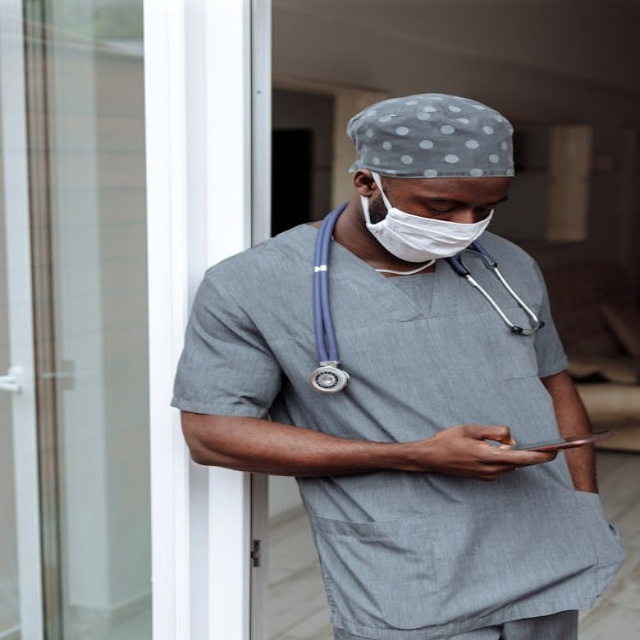Mascara: (360, 195, 502, 264)
Sin_gafas: (401, 189, 509, 218)
Sin_guantes: (424, 415, 558, 480)
